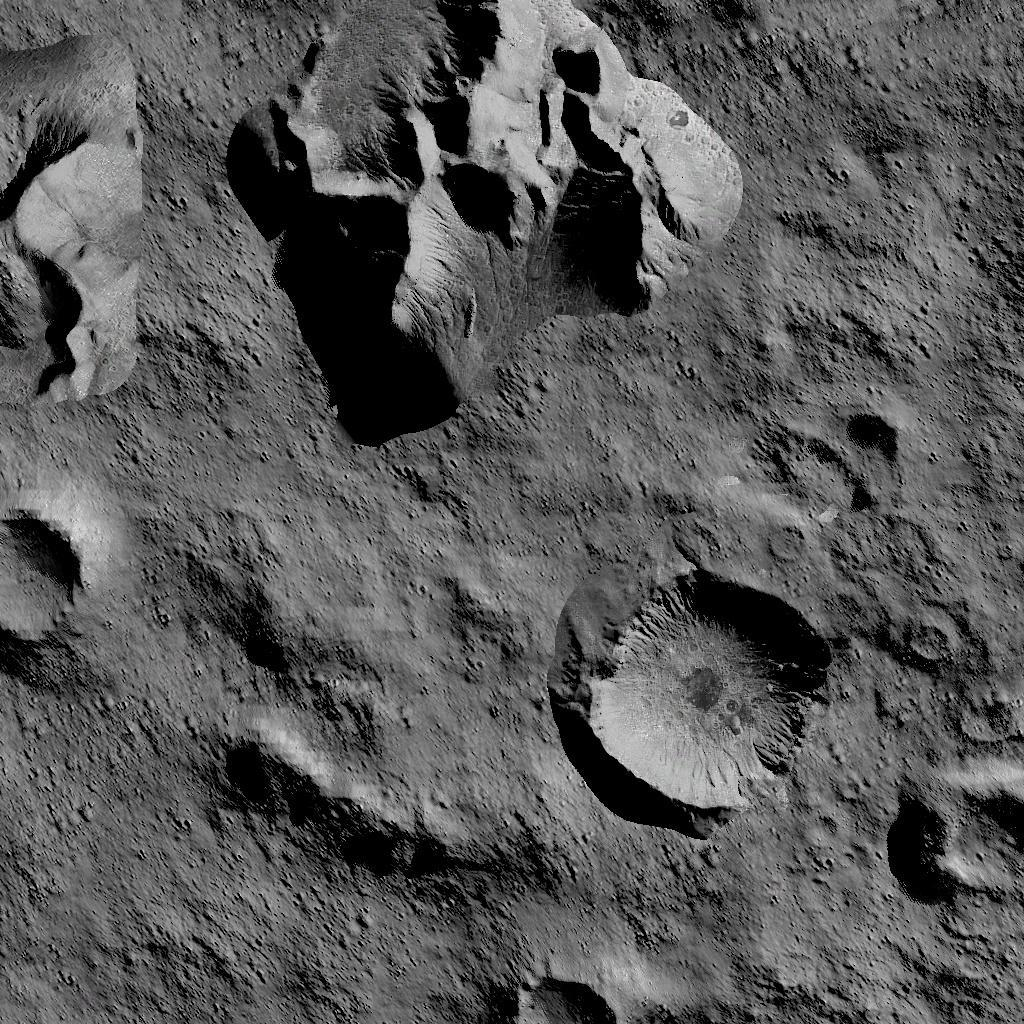Boulders: (228, 0, 742, 445), (213, 722, 568, 888), (0, 35, 141, 403)
Crater: (584, 560, 840, 815), (886, 765, 1024, 910), (0, 505, 93, 655), (506, 968, 623, 1024)
Plan surface: (756, 0, 1024, 405), (0, 670, 201, 1024), (216, 900, 496, 1024)
